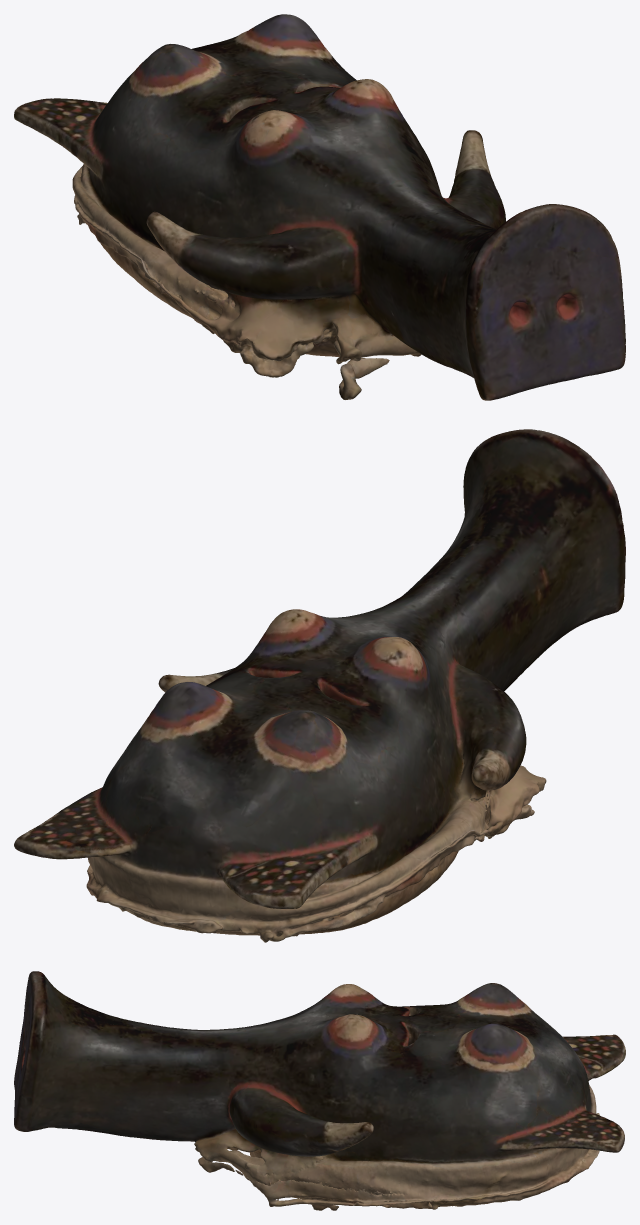
The model's file is preview.glb.
3 renders of one model, top to bottom at view 1: azimuth 30°, elevation 25°; view 2: azimuth 150°, elevation 25°; view 3: azimuth 270°, elevation 25°, orthographic. The views are drawn at different scales.
Parts seen in each view (by area): view 1: Object_2; view 2: Object_2; view 3: Object_2.
Boxes of the visible parts, x1=… form: Object_2: x1=14, y1=14, x2=625, y2=400; Object_2: x1=14, y1=429, x2=625, y2=942; Object_2: x1=14, y1=971, x2=625, y2=1210.
Size of the model in its own units: 0.1842 by 0.1359 by 0.392.
1 material, 1 textured.
